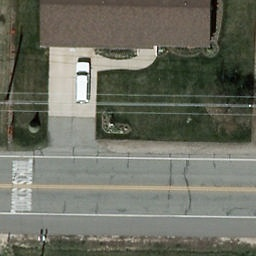car: (73, 63, 92, 106)
